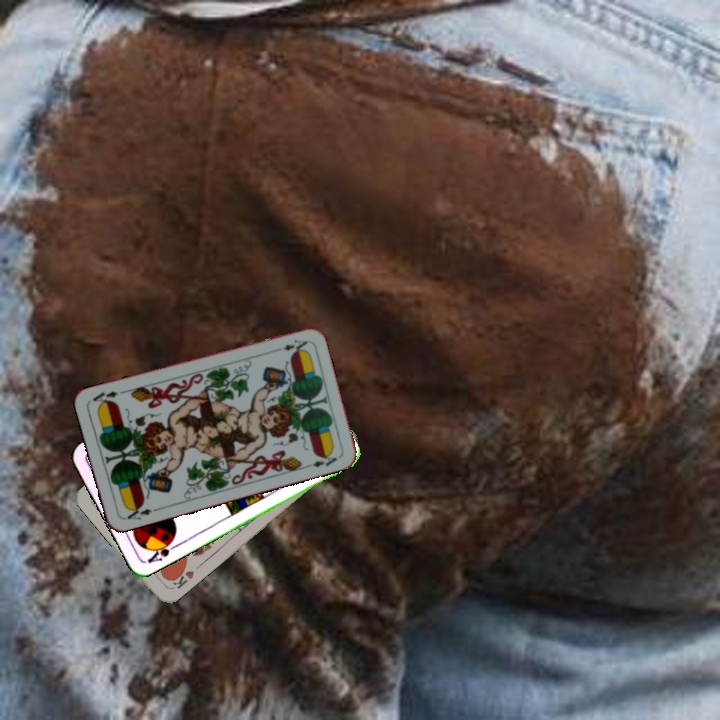EA: (121, 501, 161, 522), (270, 336, 310, 355)
HK: (165, 563, 197, 592)
SA: (143, 535, 180, 566)
